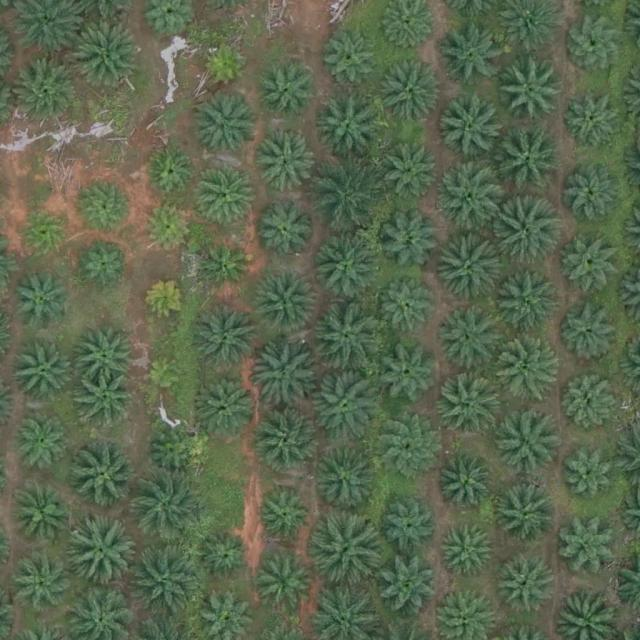Healthy: (252, 342, 323, 413), (191, 301, 262, 372), (64, 519, 135, 590), (435, 164, 506, 235), (488, 334, 558, 405), (312, 374, 382, 445), (312, 510, 382, 581), (135, 471, 205, 542), (133, 547, 203, 618), (69, 440, 139, 511), (494, 198, 564, 269), (435, 241, 505, 312), (312, 90, 383, 160), (71, 21, 141, 92), (10, 57, 80, 128), (314, 300, 384, 370), (494, 129, 564, 199), (313, 167, 383, 237), (374, 557, 437, 620), (315, 449, 378, 512), (199, 374, 262, 437), (74, 324, 137, 387), (12, 343, 75, 406), (12, 483, 75, 546), (500, 60, 563, 123), (442, 23, 505, 86), (379, 209, 442, 272), (252, 204, 315, 267), (192, 164, 255, 227), (556, 511, 618, 574), (495, 415, 558, 477), (497, 487, 559, 550), (439, 311, 501, 374), (375, 275, 438, 337), (253, 272, 315, 335), (261, 411, 323, 474), (8, 270, 70, 333), (14, 556, 76, 619), (498, 266, 560, 329), (318, 235, 380, 298), (382, 137, 444, 200), (257, 58, 319, 121), (257, 127, 319, 190), (193, 97, 255, 160), (442, 375, 504, 437), (438, 95, 500, 157), (381, 60, 443, 122), (258, 490, 313, 546), (560, 447, 615, 502), (560, 373, 615, 428), (562, 306, 617, 361), (499, 557, 554, 612), (439, 454, 494, 509), (439, 524, 494, 579), (384, 499, 439, 554), (380, 427, 435, 482), (379, 346, 434, 401), (148, 428, 203, 483), (80, 374, 135, 429), (14, 419, 69, 474), (565, 16, 620, 71), (564, 94, 619, 149), (565, 170, 620, 225), (564, 234, 619, 289), (17, 206, 72, 261), (79, 179, 134, 234), (79, 237, 134, 292), (141, 199, 196, 254), (146, 144, 201, 199), (322, 31, 377, 86), (198, 237, 253, 292), (261, 563, 315, 618), (198, 533, 252, 588)
Yellow: (199, 37, 254, 92), (144, 275, 191, 323), (147, 356, 186, 395)
